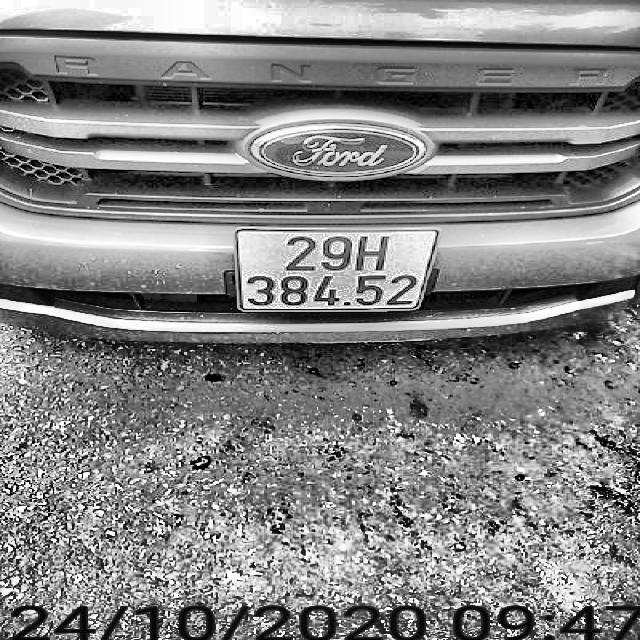plate: (227, 224, 452, 316)
